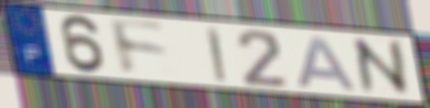2: (234, 27, 293, 90)
6: (57, 13, 107, 75)
A: (294, 34, 360, 93)
F: (106, 16, 171, 78)
I: (204, 25, 229, 84)
N: (348, 36, 416, 96)
